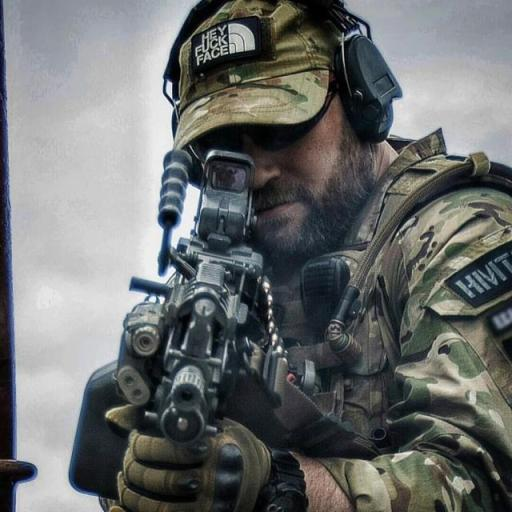The North Face: (227, 20, 257, 56)
